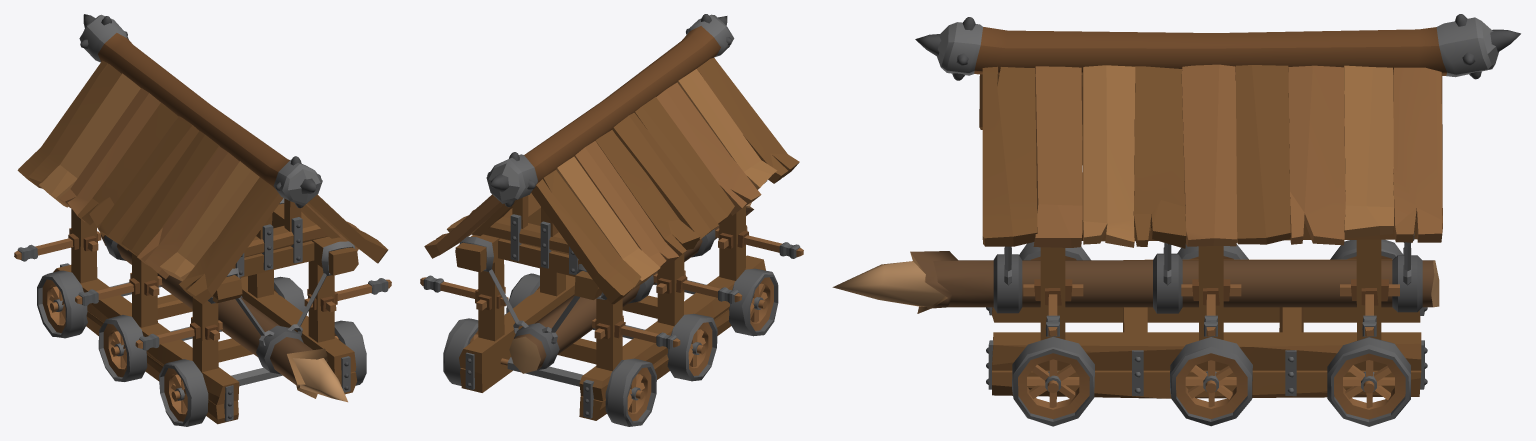
The model's file is BatteringRam.fbx.
3 renders of one model, left to right at view 1: azimuth 30°, elevation 25°; view 2: azimuth 150°, elevation 25°; view 3: azimuth 270°, elevation 25°, orthographic. The views are drawn at different scales.
Visible parts, largest first — view 1: BatteringRam; view 2: BatteringRam; view 3: BatteringRam.
Boxes of the visible parts, x1,y1,x2,y2 form: BatteringRam: [14, 14, 391, 426]; BatteringRam: [420, 14, 803, 426]; BatteringRam: [832, 14, 1520, 426].
Bounding box in the file's own units: 362 × 374 × 655.
